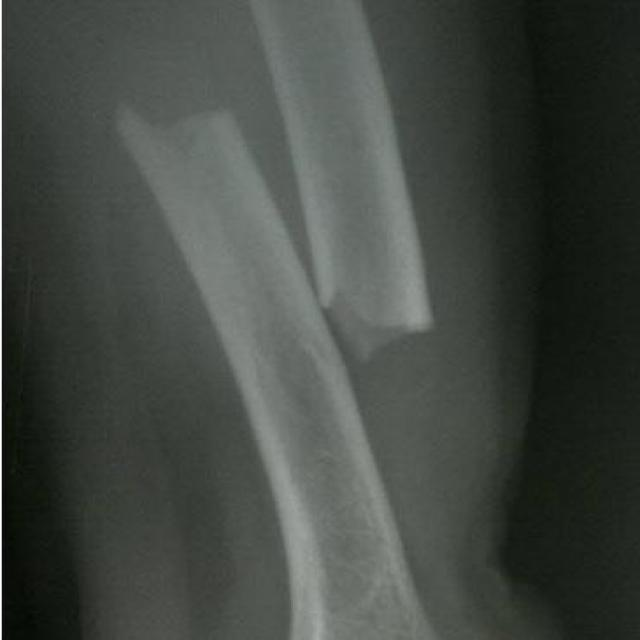Broken: (110, 102, 426, 639), (244, 1, 434, 364)
